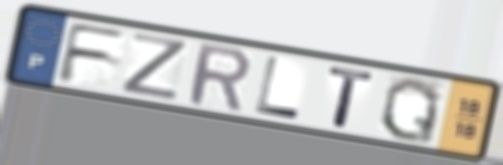F: (54, 20, 131, 85)
L: (253, 54, 304, 122)
Q: (377, 75, 444, 147)
R: (186, 40, 253, 115)
T: (326, 65, 379, 131)
Z: (117, 30, 191, 103)
